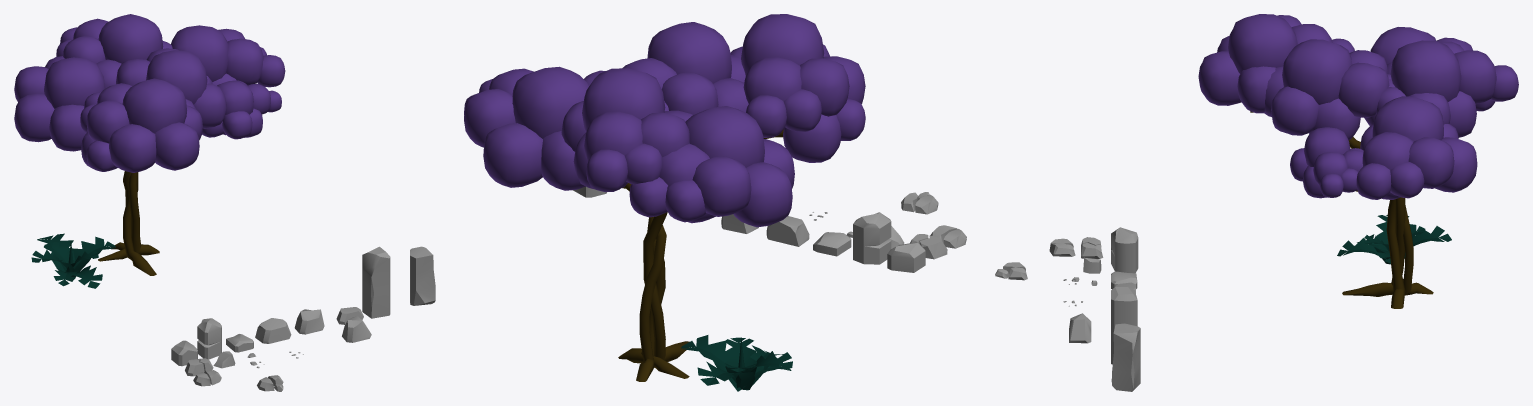
Rendered from Props.FBX.
3 renders of one model, left to right at view 1: azimuth 30°, elevation 25°; view 2: azimuth 150°, elevation 25°; view 3: azimuth 270°, elevation 25°, orthographic. The views are drawn at different scales.
Visible parts, largest first — view 1: Box015, Box025, Box045, planta001, Box055, Line003, Box035, Box020, Rocks08, Box019, Box050, Box032 (+23 smaller); view 2: Line003, Box035, Box055, Box045, Box025, Box015, planta001, Box040, Box044, Box050, Box022, Box014 (+29 smaller); view 3: Box025, Box055, Box015, Line003, Box035, Box052, Box058, Box019, Rocks09, Box034, Box022, planta001 (+20 smaller).
Boxes of the visible parts, <box> form: Box015: <box>122,78,186,133</box>; Box025: <box>98,14,163,63</box>; Box045: <box>44,57,105,108</box>; planta001: <box>31,233,115,288</box>; Box055: <box>146,50,207,104</box>; Line003: <box>98,171,159,275</box>; Box035: <box>171,25,228,81</box>; Box020: <box>109,124,156,172</box>; Rocks08: <box>362,246,390,318</box>; Box019: <box>155,122,199,170</box>; Box050: <box>14,93,54,142</box>; Box032: <box>226,38,263,85</box>; Line003: <box>618,129,783,381</box>; Box035: <box>512,66,588,138</box>; Box055: <box>647,22,731,83</box>; Box045: <box>685,106,764,167</box>; Box025: <box>582,68,665,131</box>; Box015: <box>741,14,824,75</box>; planta001: <box>681,335,792,391</box>; Box040: <box>483,123,542,187</box>; Box044: <box>692,156,751,216</box>; Box050: <box>733,162,792,227</box>; Box022: <box>584,111,642,161</box>; Box014: <box>800,58,849,116</box>; Box025: <box>1390,40,1461,101</box>; Box055: <box>1282,39,1352,104</box>; Box015: <box>1228,14,1297,73</box>; Line003: <box>1250,111,1433,308</box>; Box035: <box>1372,96,1443,141</box>; Box052: <box>1338,62,1389,117</box>; Box058: <box>1271,86,1318,135</box>; Box019: <box>1198,51,1241,105</box>; Rocks09: <box>1111,323,1140,391</box>; Box034: <box>1408,137,1454,188</box>; Box022: <box>1454,50,1496,104</box>; planta001: <box>1337,215,1451,264</box>.
Bounding box in the file's own units: 146 × 111 × 202.
